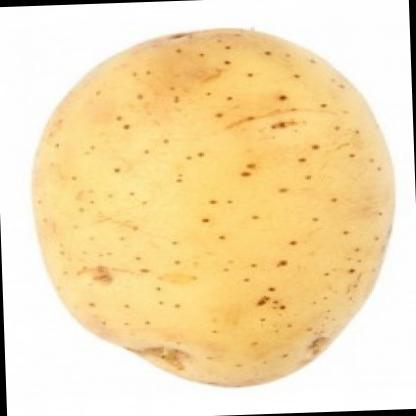potato: (24, 19, 406, 397)
